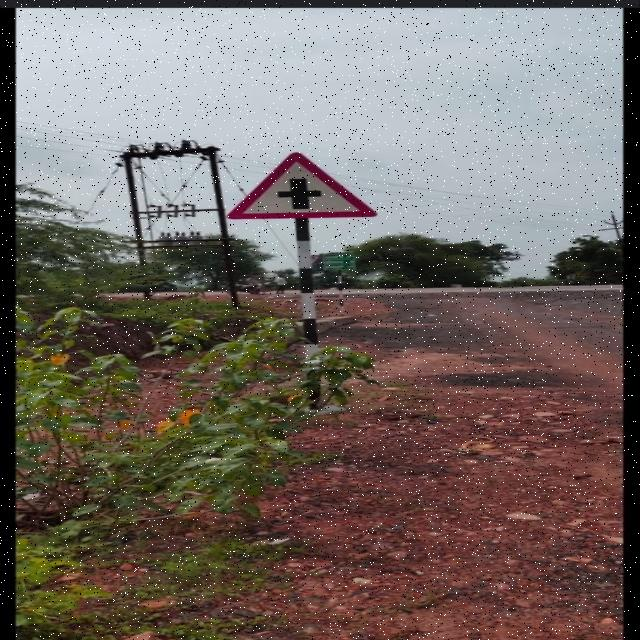major_road_ahead: (233, 142, 384, 250)
